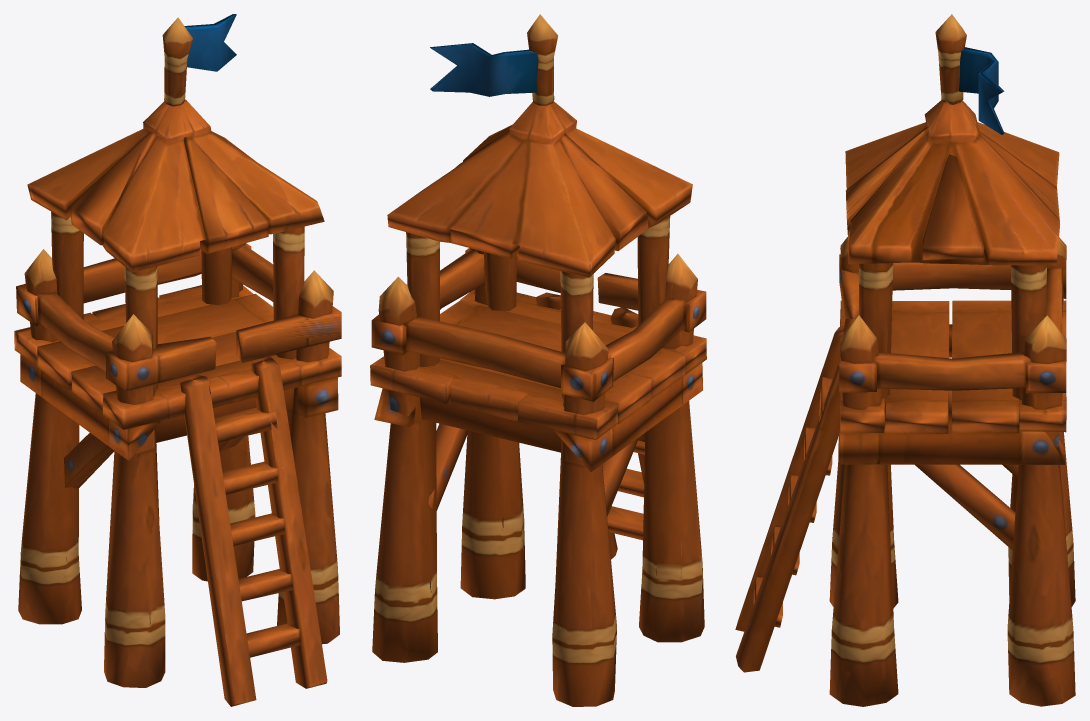
The model's file is tour_de_guet.glb.
3 renders of one model, left to right at view 1: azimuth 30°, elevation 25°; view 2: azimuth 150°, elevation 25°; view 3: azimuth 270°, elevation 25°, orthographic. The views are drawn at different scales.
Visible parts, largest first — view 1: geometry_0; view 2: geometry_0; view 3: geometry_0.
Part boxes in pixels (box(x1,y1,x2,y2)): geometry_0: box(14, 14, 341, 706); geometry_0: box(370, 14, 706, 706); geometry_0: box(735, 14, 1075, 706).
Size of the model in its own units: 0.3794 by 0.9526 by 0.4634.
1 material, 1 textured.
